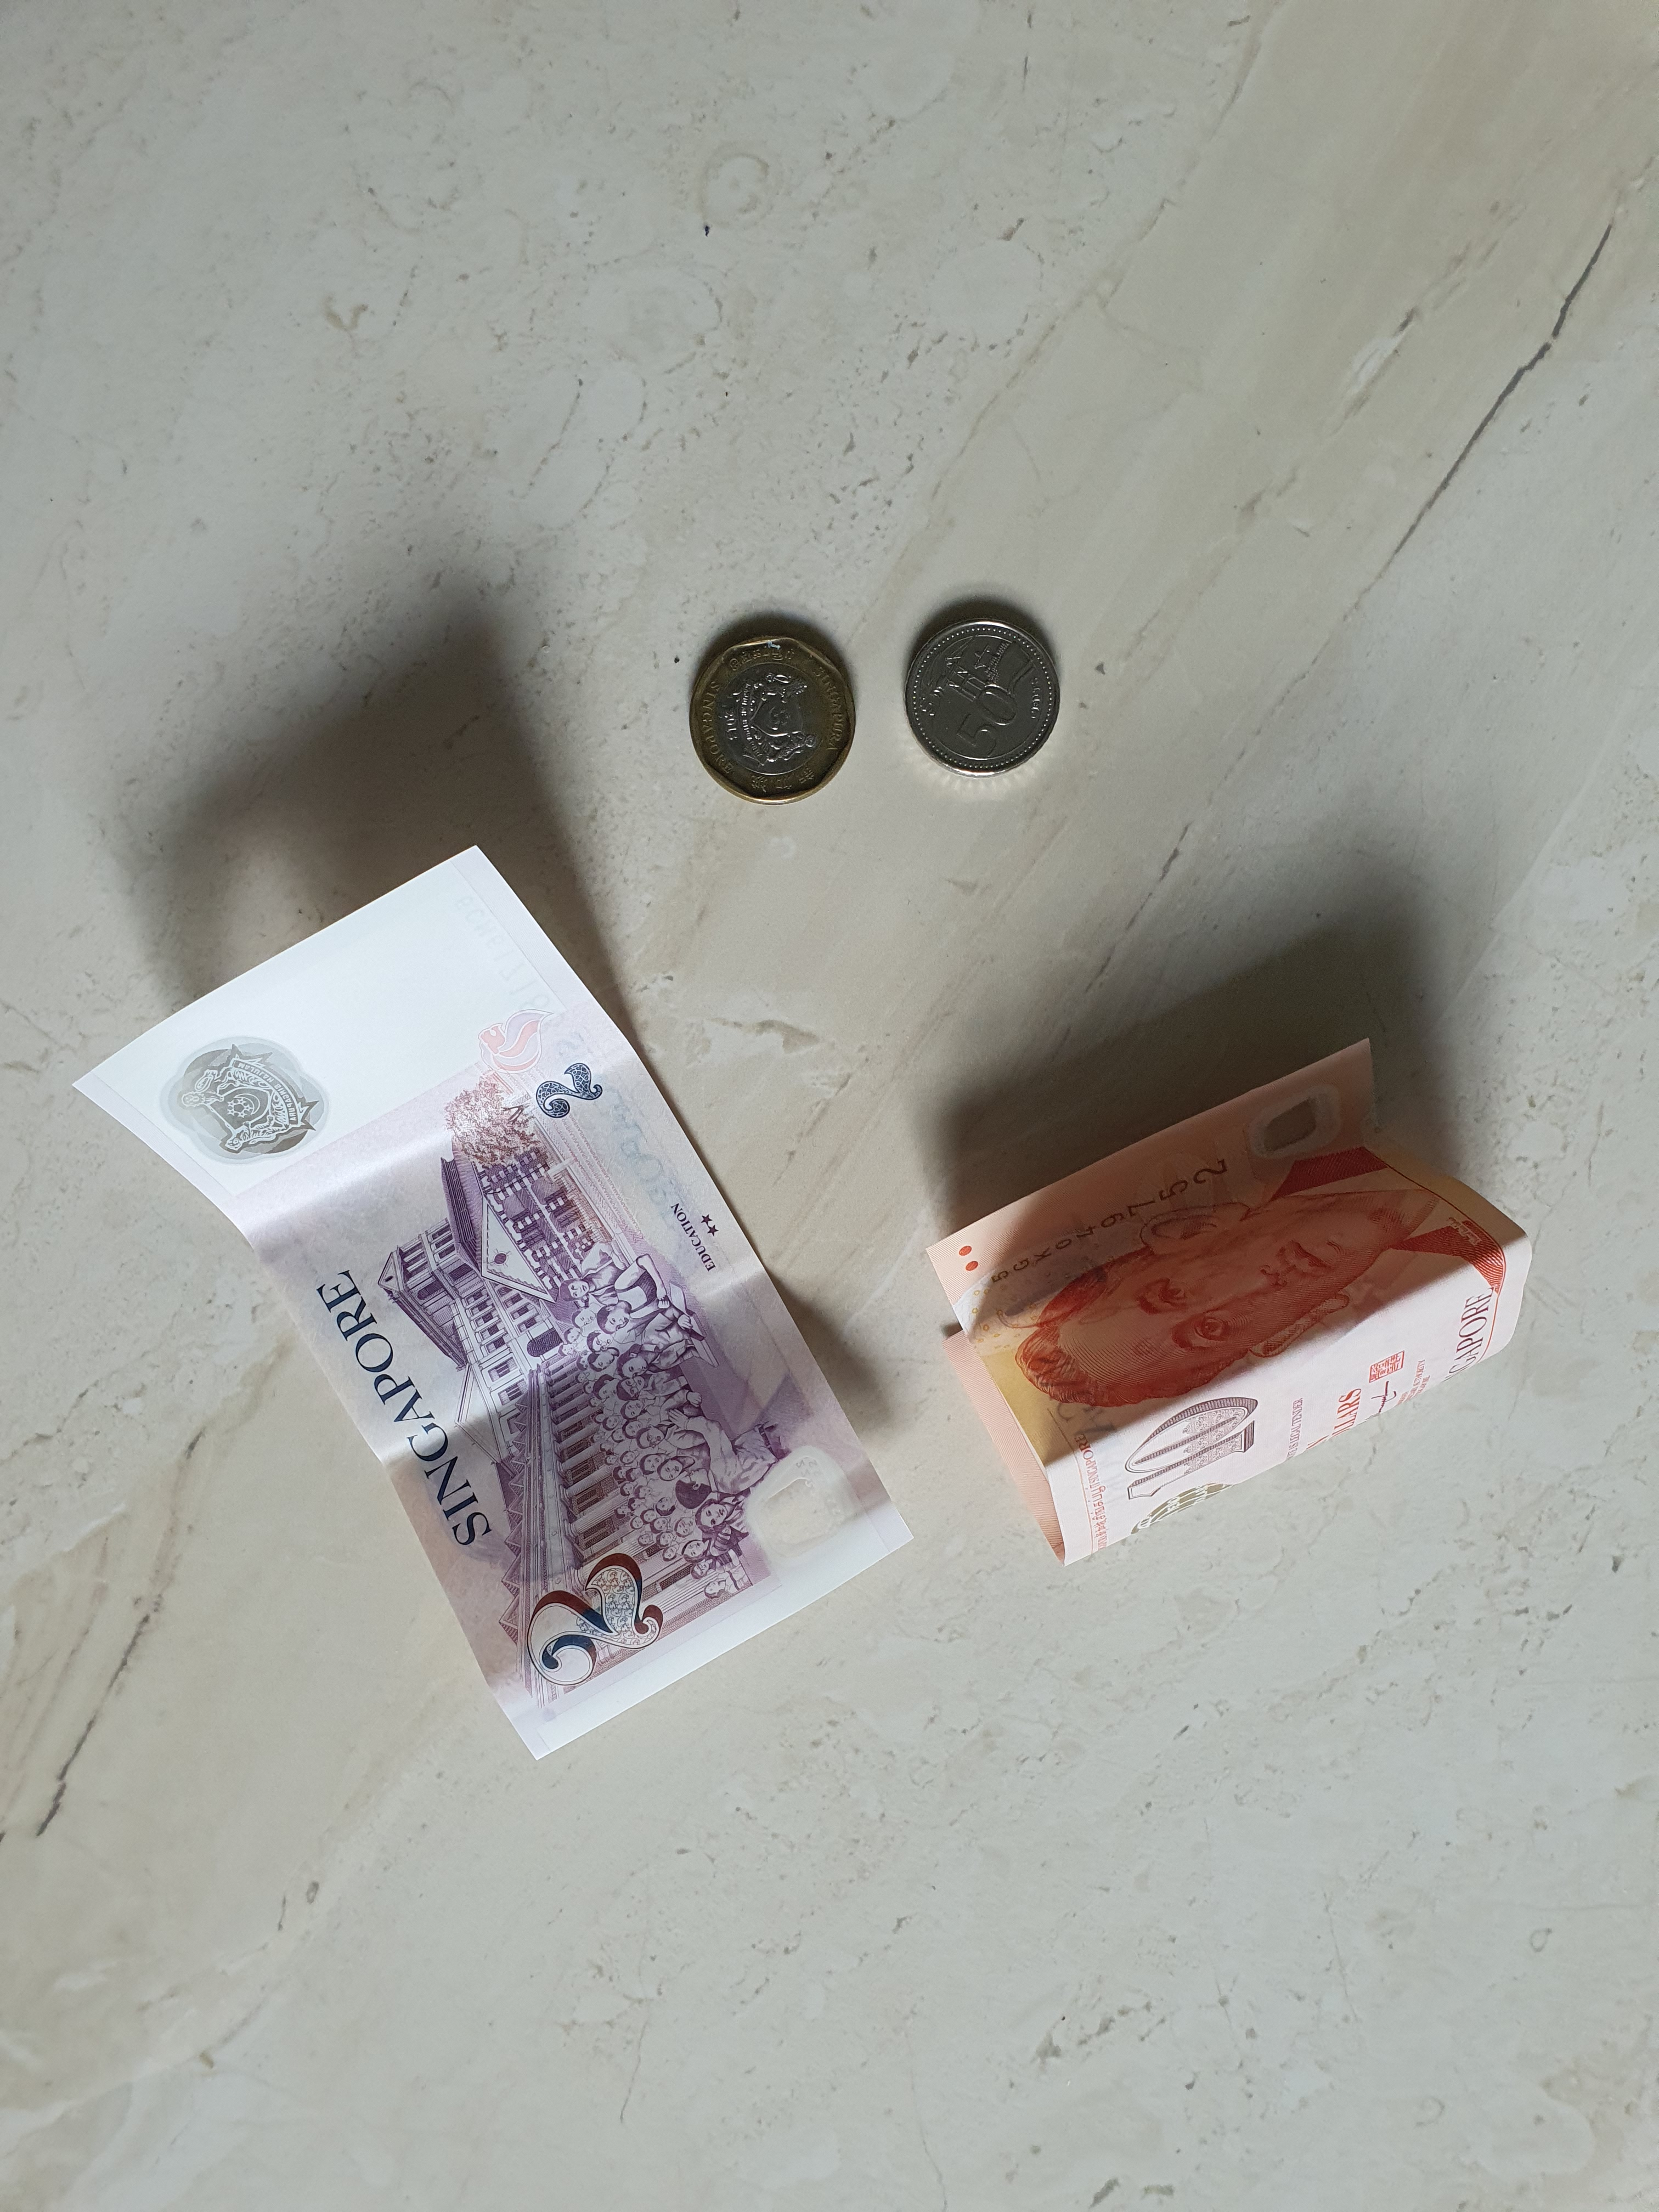$1: (688, 634, 857, 803)
$10: (925, 1038, 1534, 1569)
$2: (66, 843, 913, 1759)
50c: (903, 618, 1061, 779)
